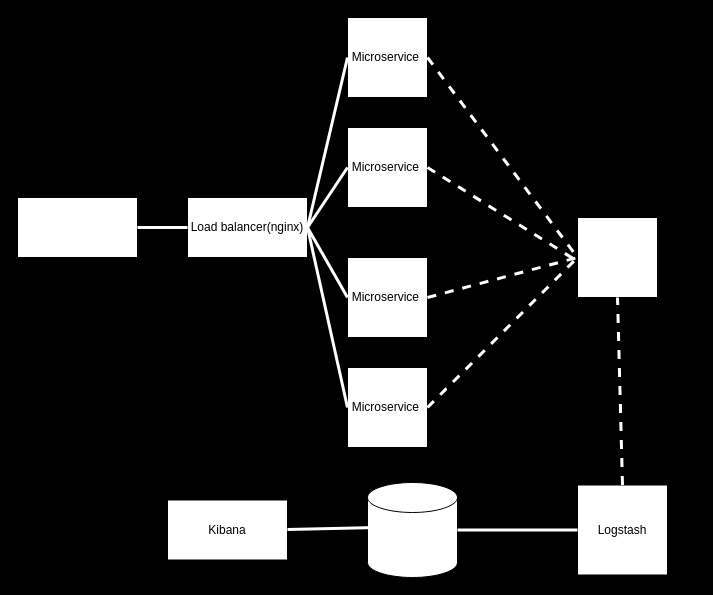
Some shapes in this 713 by 595 pixel diagram are drawn without their labels. Each missing label, with the centre of its shape:
"Browser/Jmeter" belongs at point (77, 227).
"Elasticsearch" belongs at point (412, 530).
"Kafka" belongs at point (617, 257).
